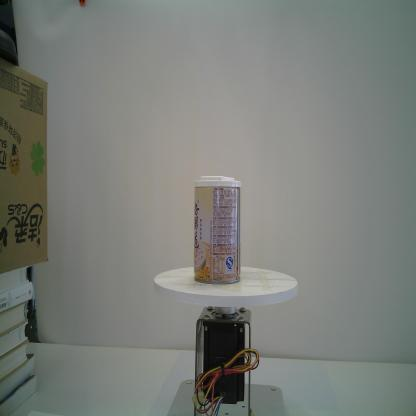Canned Food: (190, 173, 243, 287)
